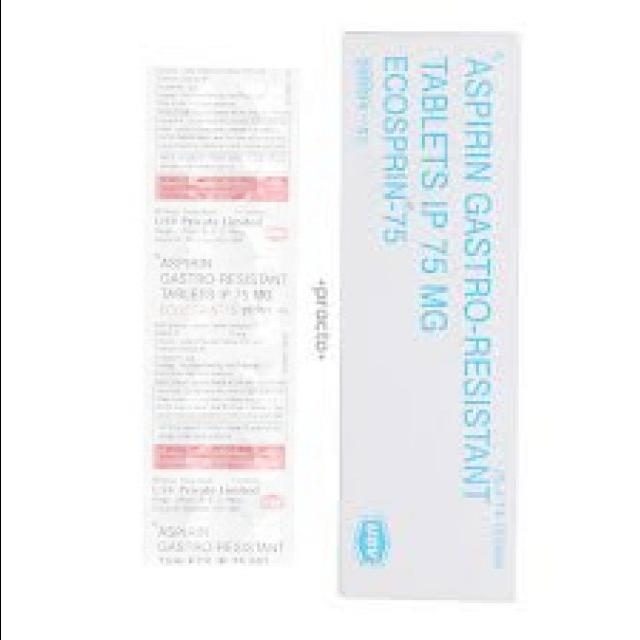authentic: (305, 22, 534, 616), (132, 50, 305, 593)
